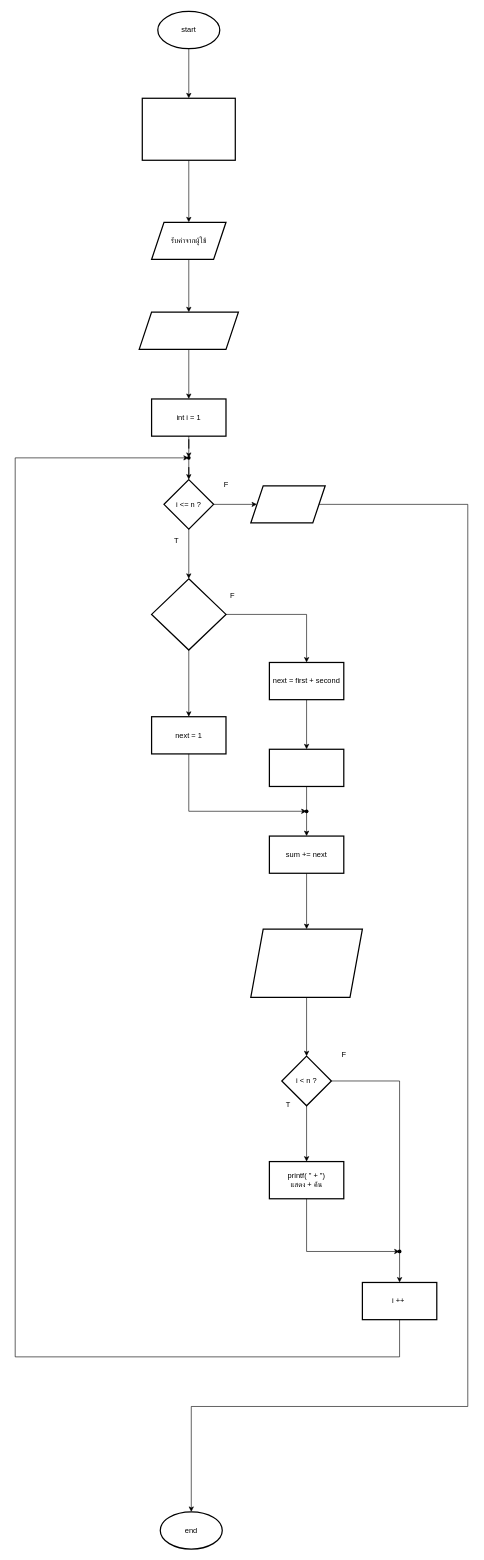
The diagram is 484 pixels wide and 1560 high, and some of its shapes have lost their labels. The box of each missing label's shape, as (x1, y1, x2, y2) in pixels:
first = second: (268, 748, 344, 787)
i == 1 || i == 2 ?: (151, 578, 226, 650)
pritf( "%d", next ) ตัวเลขในลำดับปัจจุบัน: (250, 928, 363, 998)
สร้างตัวแปร int n int first = 1 int second = 1 int next int sum = 0: (141, 97, 236, 161)
แสดงคำว่า Series :: (138, 311, 239, 350)
แสดงผลรวม: (250, 485, 326, 523)
